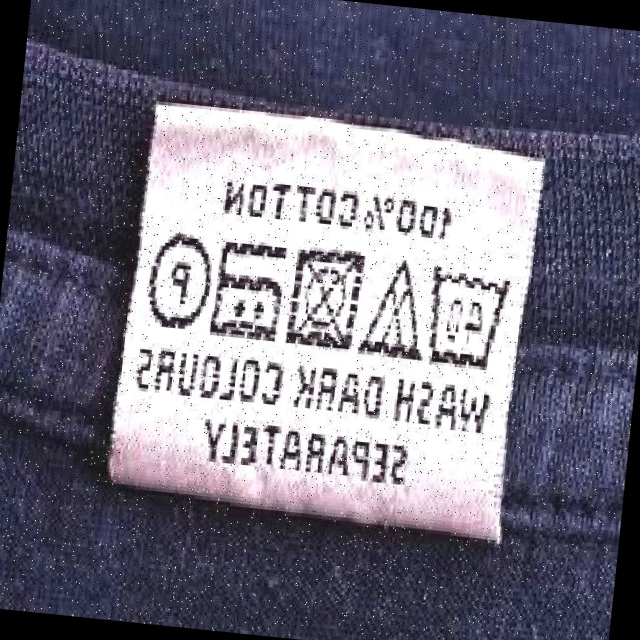40C: (419, 259, 515, 373)
DN_bleach: (360, 256, 431, 362)
DN_tumble_dry: (281, 241, 367, 351)
dry_clean_any_solvent_except_trichloroethylene: (144, 226, 216, 337)
iron_medium: (205, 235, 292, 345)
